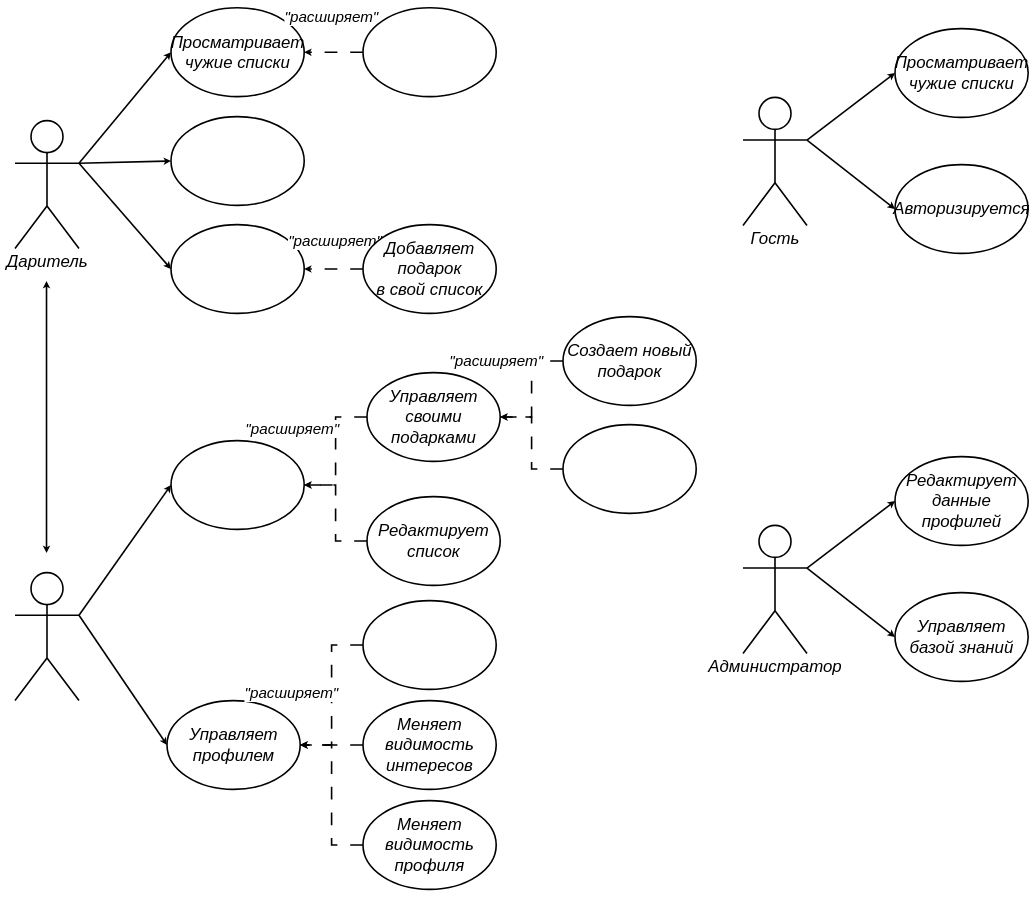
The diagram is 1036 pixels wide and 897 high, and some of its shapes have lost their labels. Each missing label, with the centre of its shape:
Владелец: point (47, 636)
Ищет "друзей": point (237, 161)
Ищет подарки: point (237, 269)
Редактирует существующий подарок: point (629, 469)
Скрывает статус бронирования: point (429, 645)
Управляет своими списками: point (237, 485)
Участвует в бронировании: point (429, 52)
